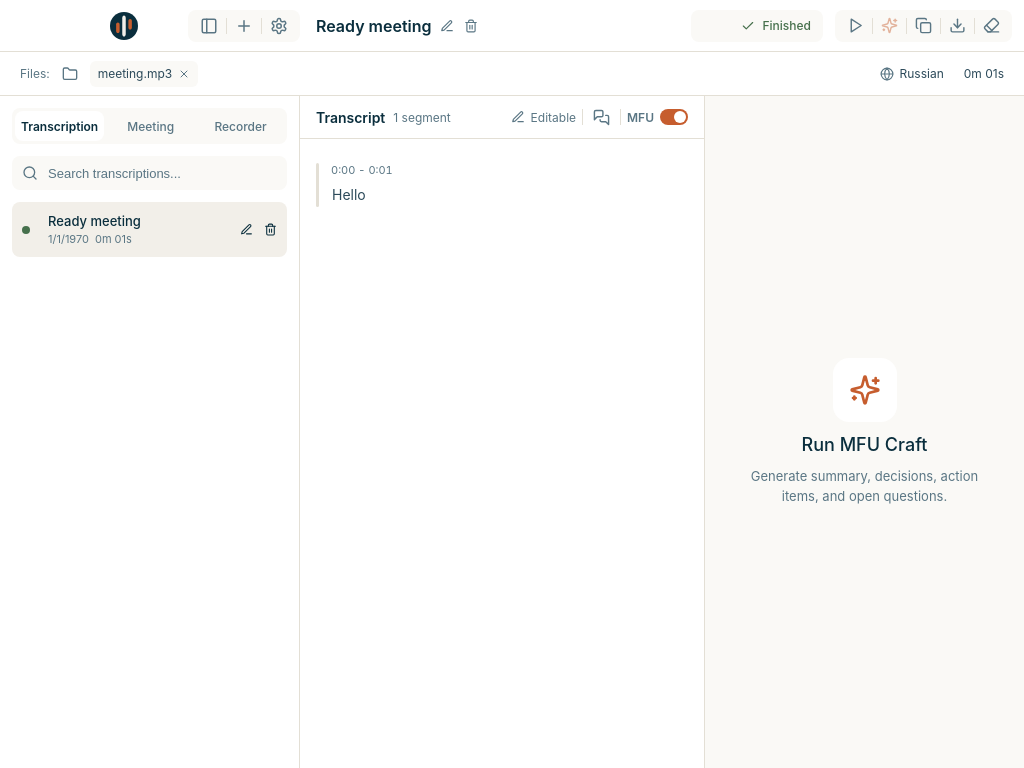
Test: App — meeting status consistency › shows the diarizing status and spinner in the row for a standalone run
The image size is (1024, 768).
Expected: the field "Hello" is shown, [332,186,366,203]
Click the button named "Diarize speakers": (602, 117) [589,104,614,130]
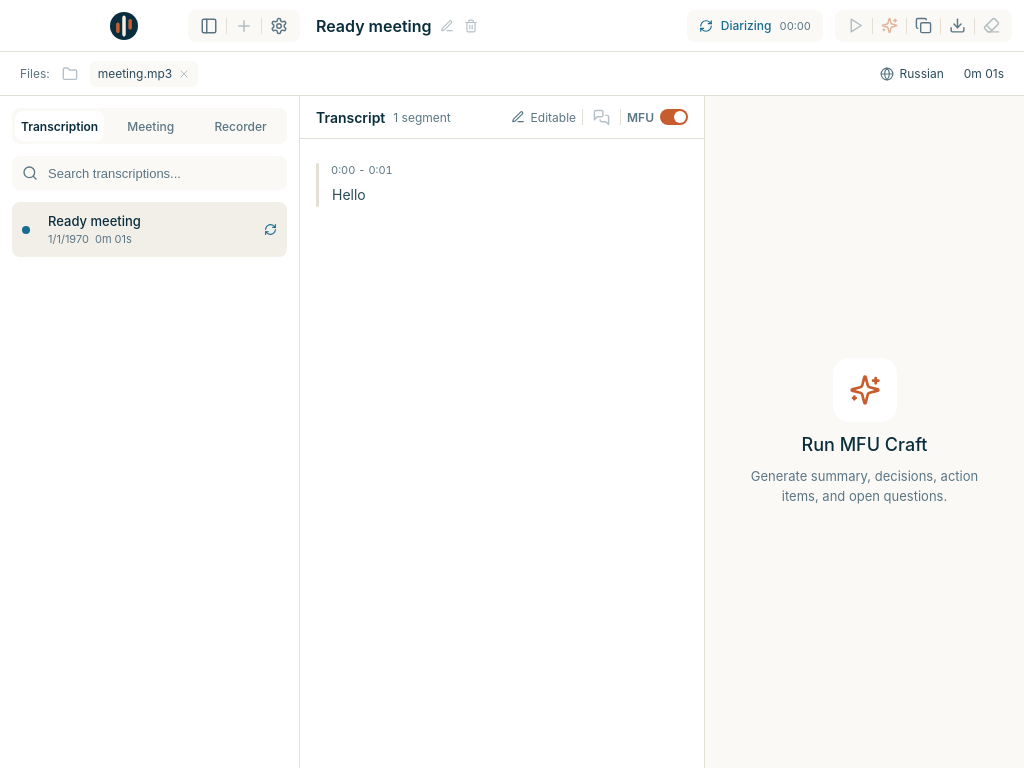
Expected: the 2nd icon with class "wp-spin" is shown, [264,223,276,236]
